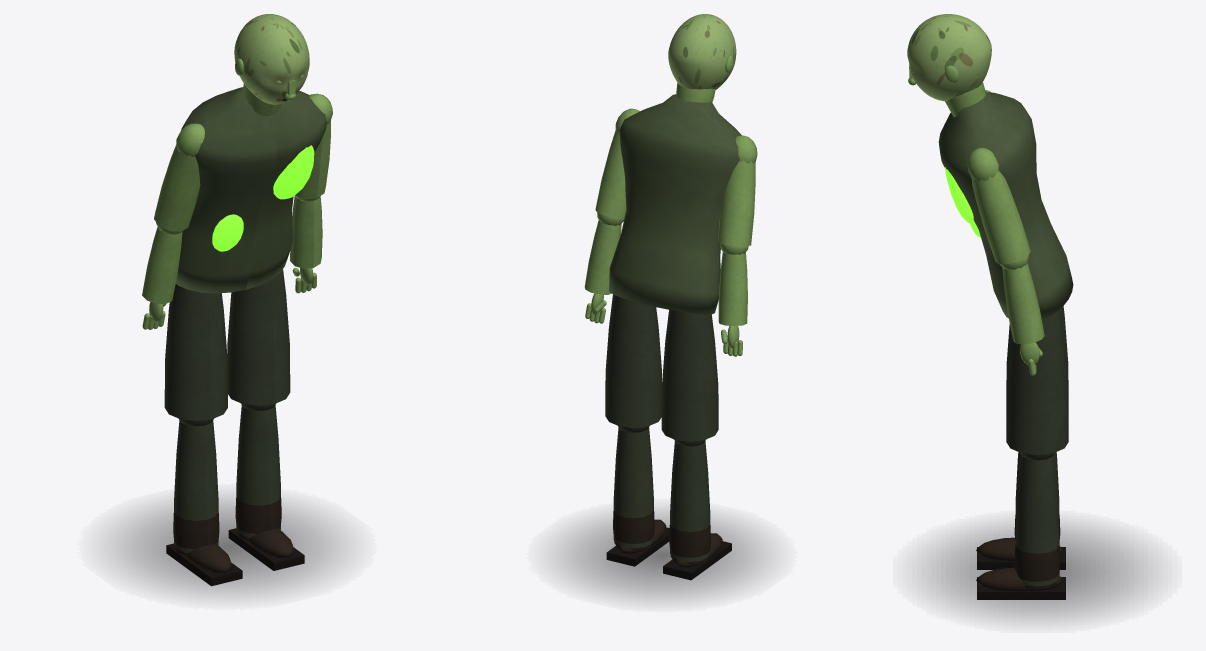
Rendered from enemy_glowhusk.glb.
3 renders of one model, left to right at view 1: azimuth 30°, elevation 25°; view 2: azimuth 150°, elevation 25°; view 3: azimuth 270°, elevation 25°, orthographic. The views are drawn at different scales.
Parts seen in each view (by area): view 1: chest, object 11, legL, shinR, shinL, legR, head, armL, foreL, foreR, armR; view 2: chest, object 11, legL, legR, shinL, shinR, head, armL, foreL, foreR, armR; view 3: chest, object 11, shinR, legR, head, armR, foreR, shinL, legL.
Part boxes in pixels (x1,y1,x2,y2): chest: (175, 83, 326, 293); object 11: (108, 496, 346, 597); legL: (164, 284, 227, 420); shinR: (228, 403, 304, 570); shinL: (166, 418, 242, 586); legR: (227, 269, 290, 405); head: (234, 14, 309, 104); armL: (154, 123, 204, 231); foreL: (142, 222, 183, 329); foreR: (290, 195, 322, 293); armR: (295, 93, 332, 198); chest: (609, 83, 741, 314); object 11: (554, 510, 769, 600); legL: (661, 310, 718, 441); legR: (605, 294, 661, 427); shinL: (663, 439, 731, 580); shinR: (606, 426, 669, 566); head: (668, 14, 736, 89); armL: (718, 135, 757, 246); foreL: (718, 243, 748, 356); foreR: (584, 212, 624, 323); armR: (595, 108, 639, 218); chest: (938, 82, 1073, 319); object 11: (921, 523, 1153, 620); shinR: (976, 452, 1065, 599); legR: (1006, 309, 1068, 454); head: (907, 14, 991, 101); armR: (967, 147, 1030, 264); foreR: (1000, 254, 1044, 375); shinL: (976, 452, 1065, 569); legL: (1006, 306, 1068, 409).
Size of the model in its own units: 0.868 by 1.74 by 0.868.
7 materials, 4 textured.
